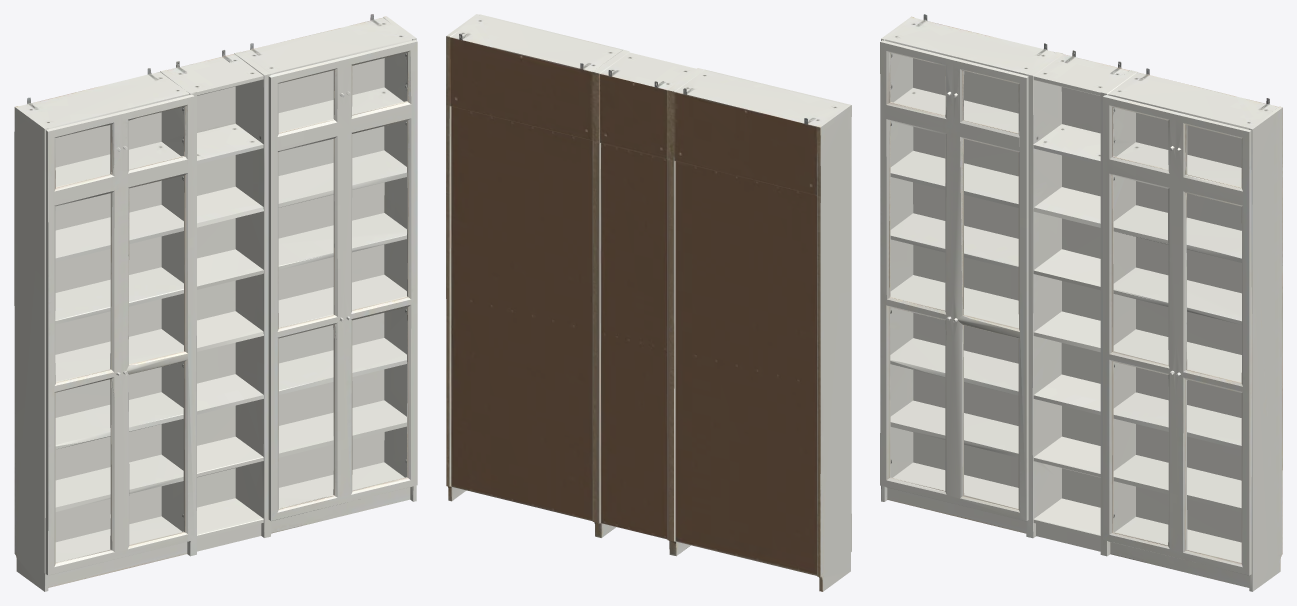
File: 25 - BILLYOXBERG - 書櫃, 白色, 200x30x237 公分 IKEA 線上購物.glb
3 views of the same model, side by side, from view 1: azimuth 30°, elevation 25°; view 2: azimuth 150°, elevation 25°; view 3: azimuth 330°, elevation 25° (orthographic).
Visible parts, largest first — view 1: ProcessedMeshNode; view 2: ProcessedMeshNode; view 3: ProcessedMeshNode.
Boxes of the visible parts, bbox=[...] form: ProcessedMeshNode: bbox=[14, 14, 417, 591]; ProcessedMeshNode: bbox=[446, 14, 851, 591]; ProcessedMeshNode: bbox=[880, 14, 1282, 591].
Bounding box in the file's own units: 2 × 2.4 × 0.3226.
Materials: 2 (1 with a texture image).
